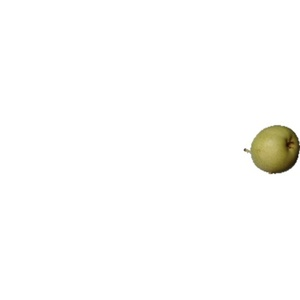pera: (244, 124, 300, 175)
